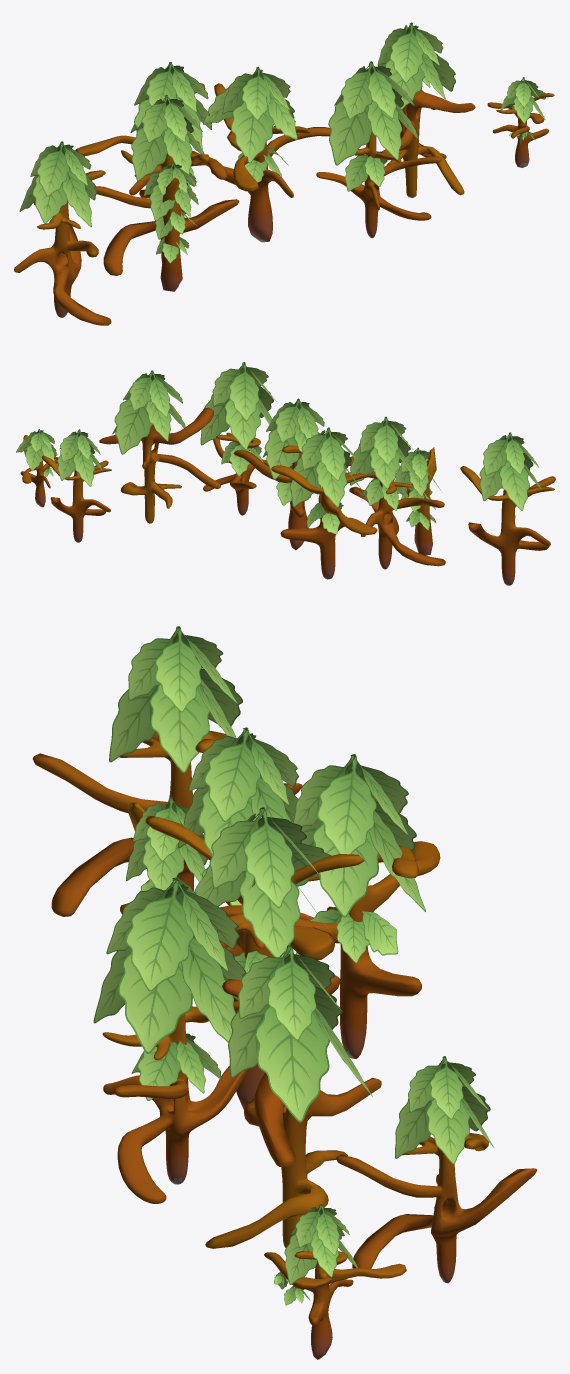
File: nuevo_arboles.glb
3 views of the same model, one above another, from view 1: azimuth 30°, elevation 25°; view 2: azimuth 150°, elevation 25°; view 3: azimuth 270°, elevation 25° (orthographic). The views are drawn at different scales.
Parts seen in each view (by area): view 1: Empty.147, Empty.144, Arbol.008, Empty.206, Arbol.003, Empty.146, Arbol.005, Arbol.006, Arbol.001, Empty.145, Empty.148, Arbol.002 (+16 smaller); view 2: Empty.147, Arbol.006, Arbol.008, Empty.145, Arbol.004, Empty.206, Empty.146, Arbol.005, Empty.144, Arbol.009, Empty.002, Empty.095 (+17 smaller); view 3: Empty.147, Empty.206, Empty.145, Empty.144, Arbol.001, Arbol.006, Arbol.009, Empty.146, Arbol.004, Arbol.008, Empty.002, Empty.108 (+16 smaller).
Part boxes in pixels (x1,y1,x2,y2): Empty.147: (328,61,402,165); Empty.144: (203,66,297,163); Arbol.008: (14,170,111,325); Empty.206: (19,141,91,227); Arbol.003: (210,83,330,242); Empty.146: (131,94,192,181); Arbol.005: (95,150,239,275); Arbol.006: (381,89,475,197); Arbol.001: (316,132,441,238); Empty.145: (130,62,202,149); Empty.148: (149,162,191,221); Arbol.002: (160,177,183,291); Empty.147: (200,362,276,449); Arbol.006: (99,407,220,523); Arbol.008: (460,466,555,585); Empty.145: (290,427,347,507); Arbol.004: (271,465,377,579); Empty.206: (479,432,529,510); Empty.146: (350,416,419,489); Arbol.005: (349,436,445,569); Empty.144: (262,398,318,479); Arbol.009: (41,455,111,542); Empty.002: (57,429,94,486); Empty.095: (114,396,155,454); Empty.147: (93,877,235,1053); Empty.206: (109,626,237,772); Empty.145: (293,754,425,917); Empty.144: (194,806,334,957); Arbol.001: (102,1001,249,1203); Arbol.006: (205,979,381,1248); Arbol.009: (336,1133,537,1283); Empty.146: (177,727,291,855); Arbol.004: (220,841,440,1058); Arbol.008: (32,731,302,916); Empty.002: (395,1056,494,1164); Empty.108: (255,1006,329,1122).
Size of what is drawn, in the model's own units: 329 by 102 by 143.
Materials: 2 (2 with a texture image).
